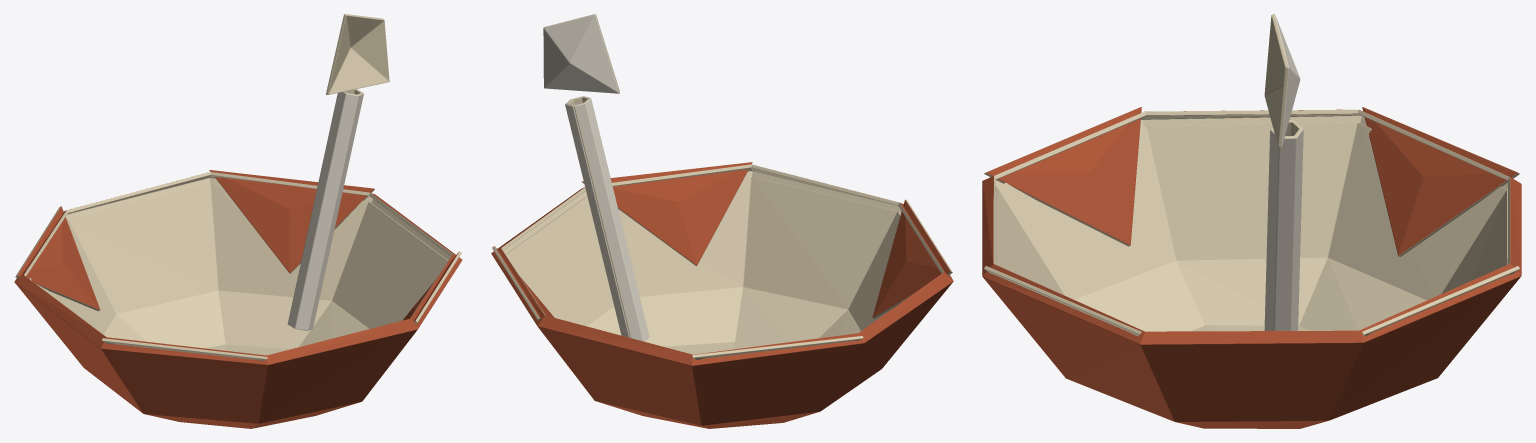
Rendered from achievement-kitchen-opener.glb.
3 views of the same model, side by side, from view 1: azimuth 30°, elevation 25°; view 2: azimuth 150°, elevation 25°; view 3: azimuth 270°, elevation 25° (orthographic). The views are drawn at different scales.
Visible parts, largest first — view 1: achievement-kitchen-opener; view 2: achievement-kitchen-opener; view 3: achievement-kitchen-opener.
Part boxes in pixels (<box>): achievement-kitchen-opener: <box>14,14,462,428</box>; achievement-kitchen-opener: <box>491,14,953,428</box>; achievement-kitchen-opener: <box>982,14,1521,428</box>.
Bounding box in the file's own units: 1.54 × 1.4 × 1.54.
